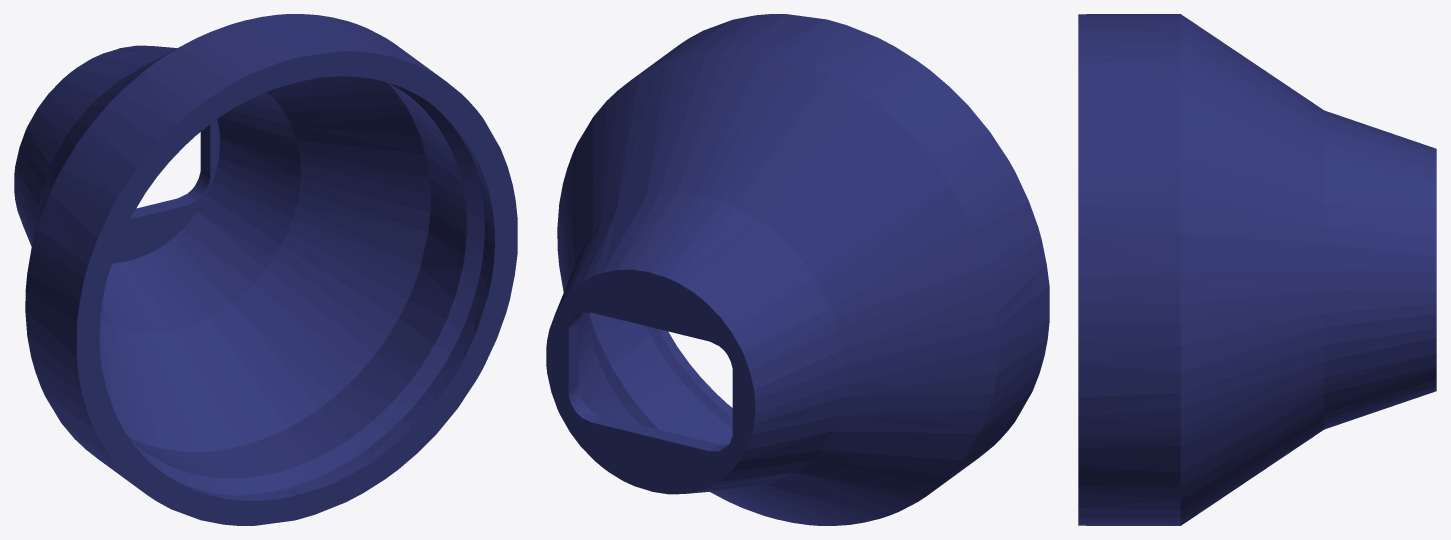
File: tinker.obj
The picture shows the model from 3 angles, left to right: view 1: azimuth 30°, elevation 25°; view 2: azimuth 150°, elevation 25°; view 3: azimuth 270°, elevation 25°; orthographic projection.
Visible parts, largest first — view 1: obj_0; view 2: obj_0; view 3: obj_0.
Boxes of the visible parts, x1,y1,x2,y2 form: obj_0: [14, 14, 517, 525]; obj_0: [546, 14, 1049, 525]; obj_0: [1078, 14, 1436, 525].
Size of the model in its own units: 40 by 40 by 28.
